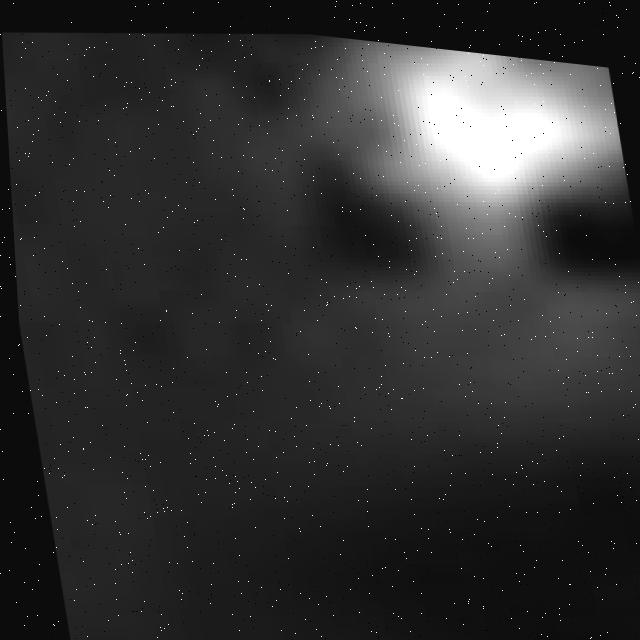person: (249, 23, 640, 315)
